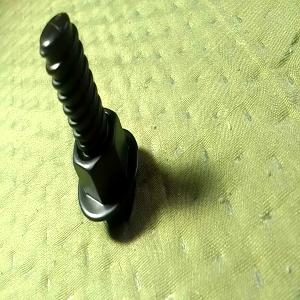parafuso: (40, 12, 140, 222)
